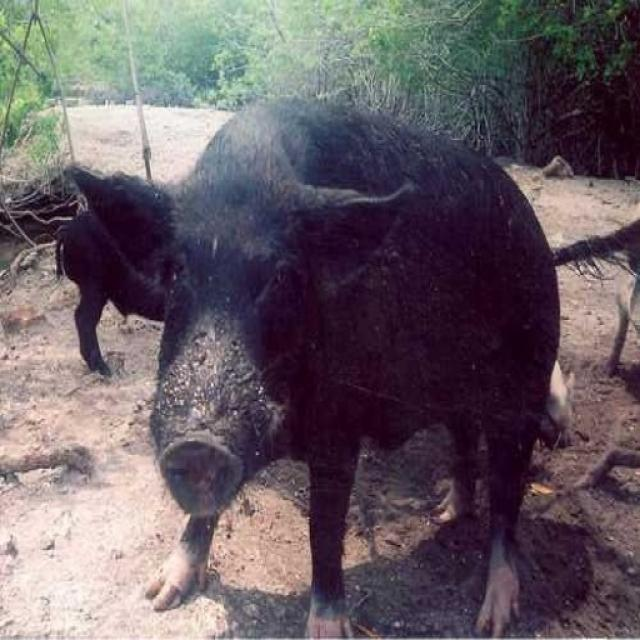pig: (160, 69, 593, 616)
